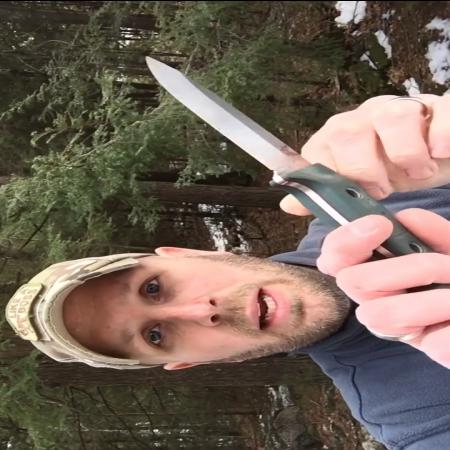long weapon: (139, 49, 402, 246)
